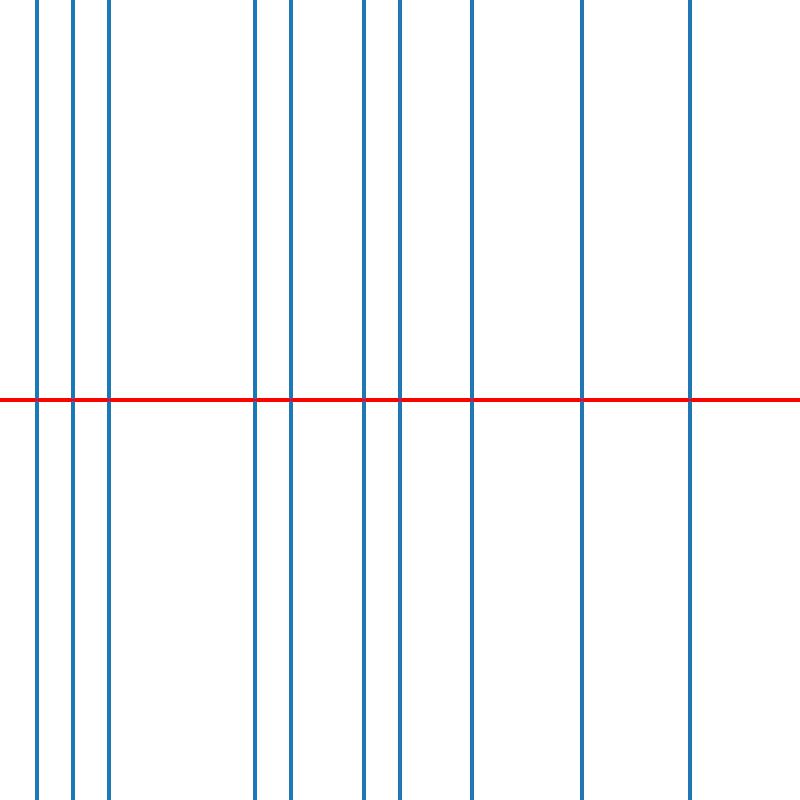root: (32, 396, 40, 404), (250, 396, 258, 404), (287, 396, 294, 404), (69, 396, 76, 404), (105, 396, 112, 404), (396, 396, 403, 404), (687, 396, 694, 404), (360, 396, 367, 404), (578, 396, 585, 404), (469, 396, 476, 404)
